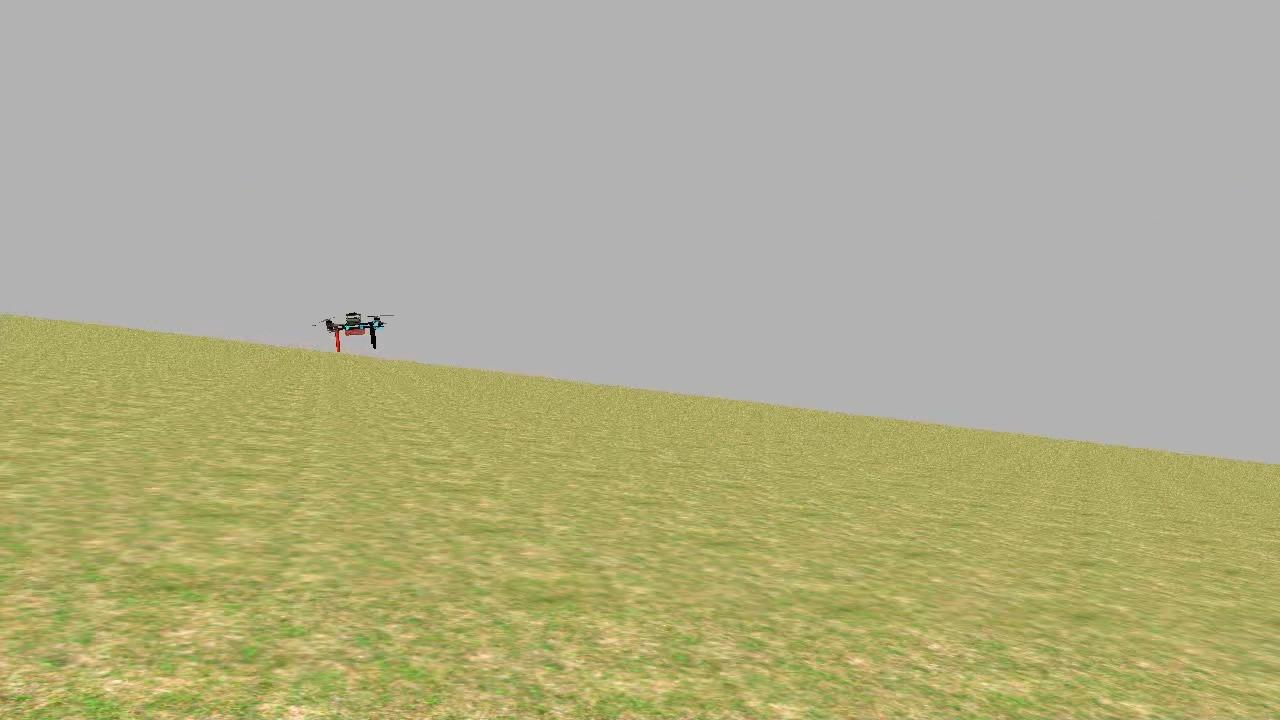UAV: (312, 304, 396, 357)
